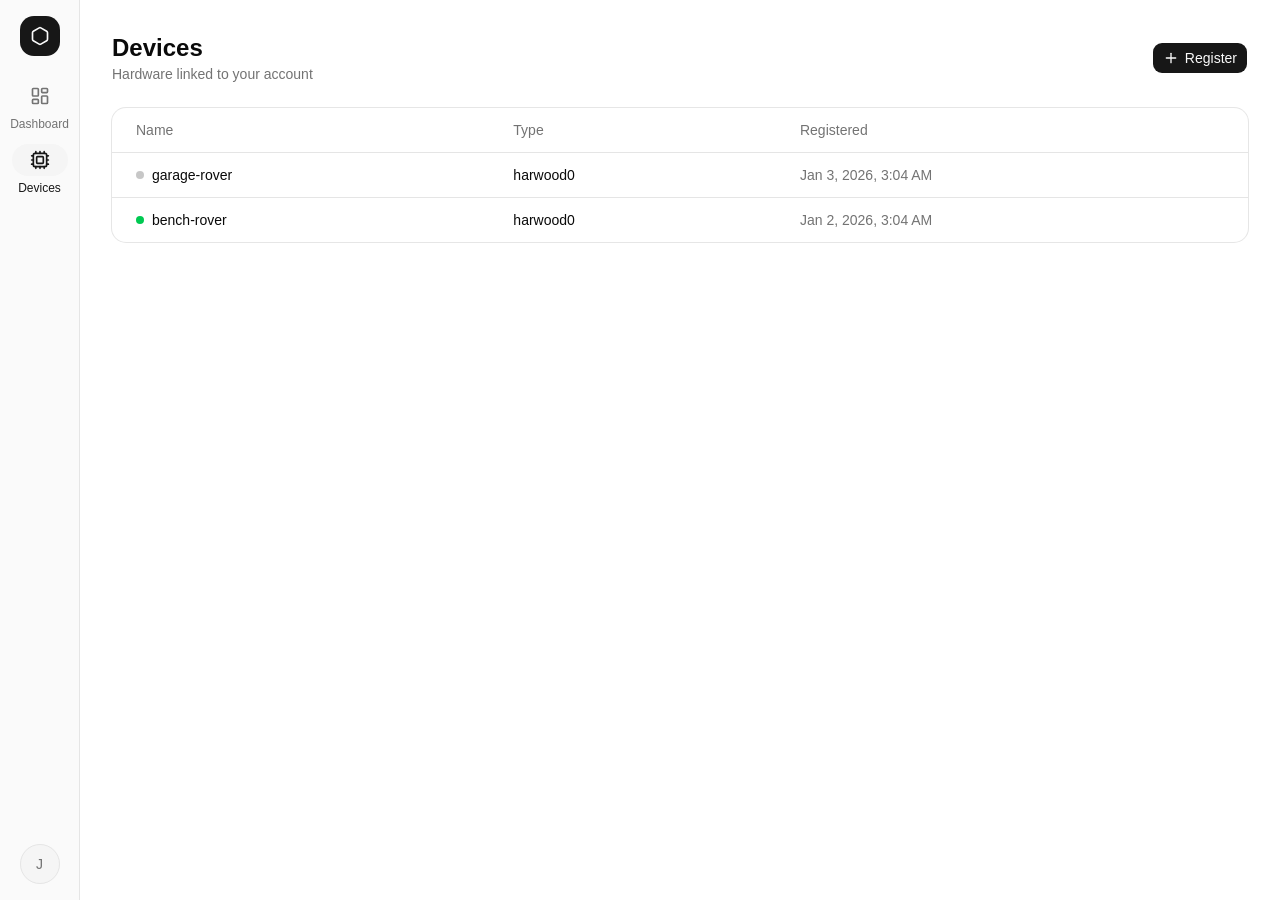
it: devices › opens a device when its row is clicked
Click the text "harwood0" in the row of "bench-rover". click: (544, 220)
box: [489,198,776,242]
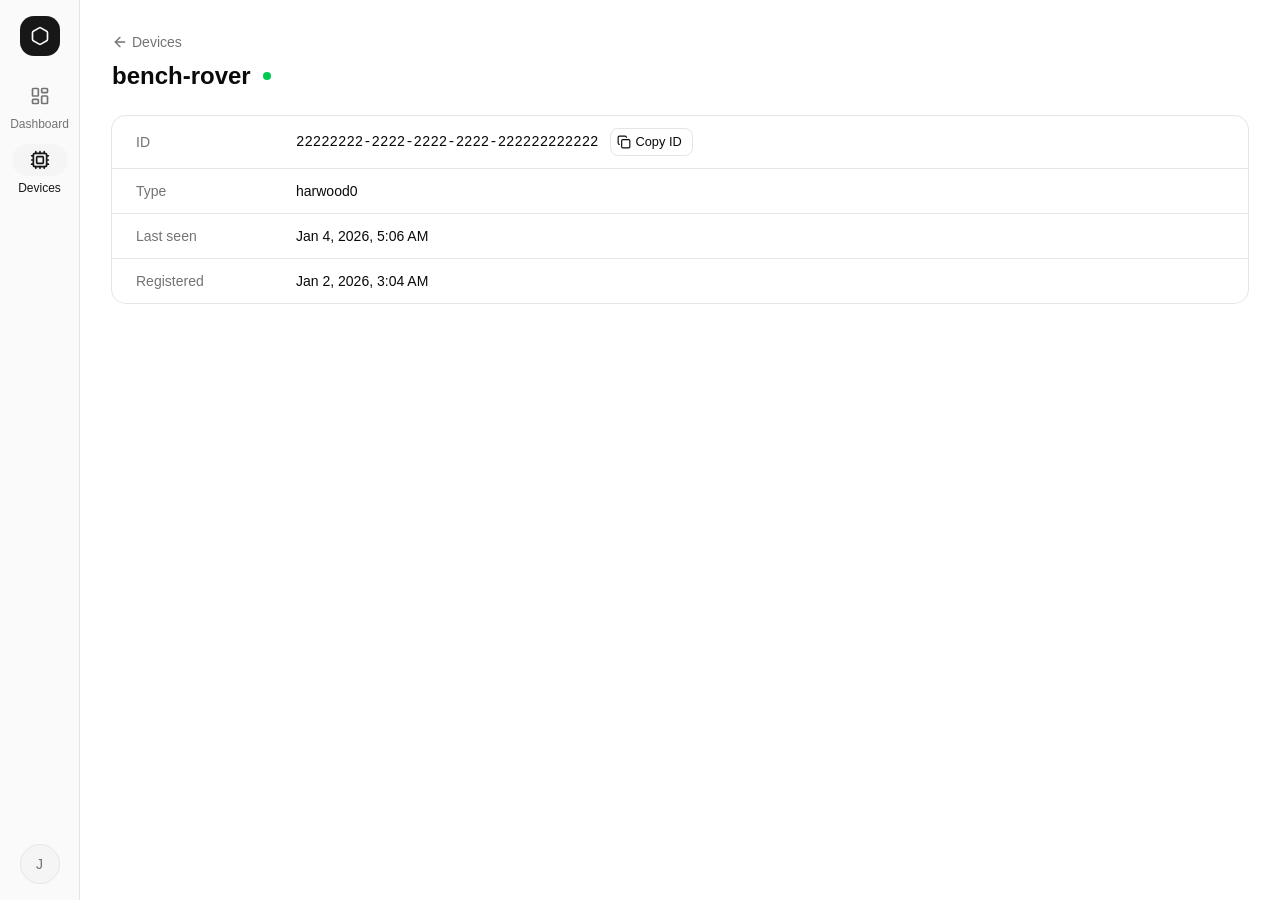
Check: the heading "bench-rover" is shown, box [112,60,251,92]
